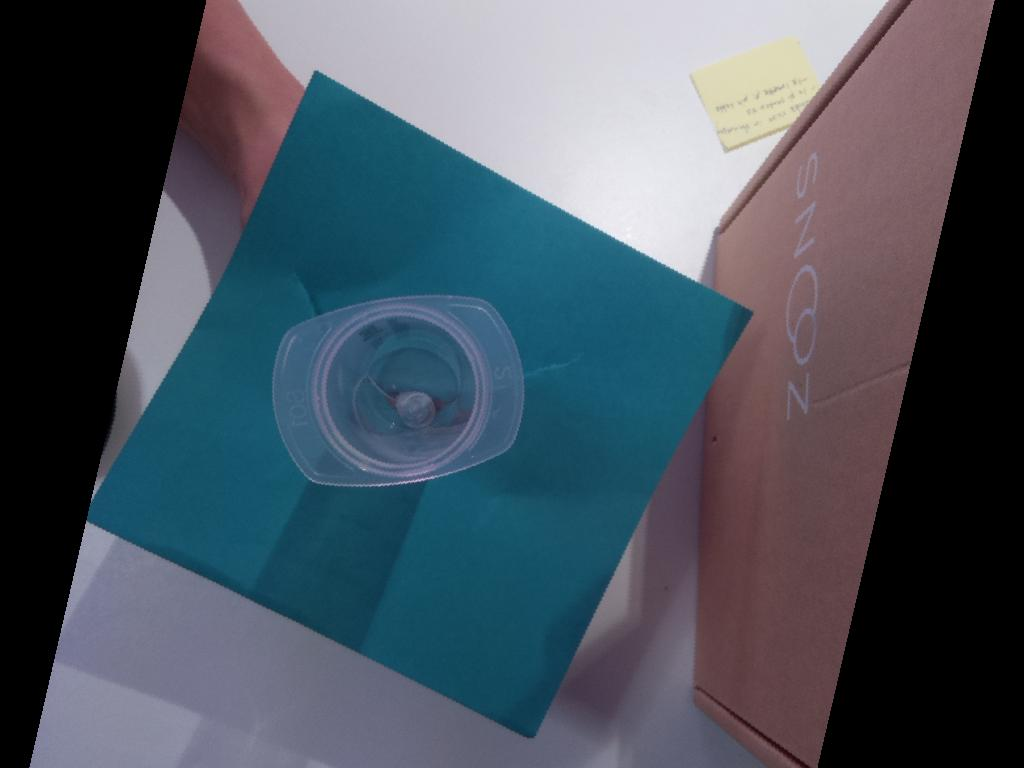clean: (270, 292, 527, 488)
